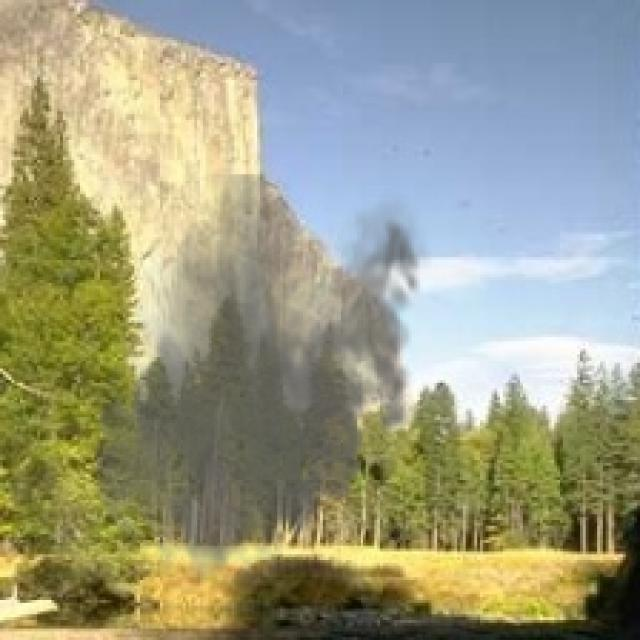smoke: (86, 174, 431, 597)
